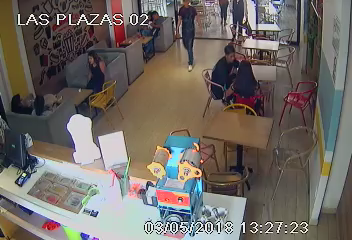libre: (182, 104, 289, 183), (230, 20, 292, 52), (231, 34, 294, 64)
ocupado: (204, 48, 297, 113), (44, 56, 112, 121)
